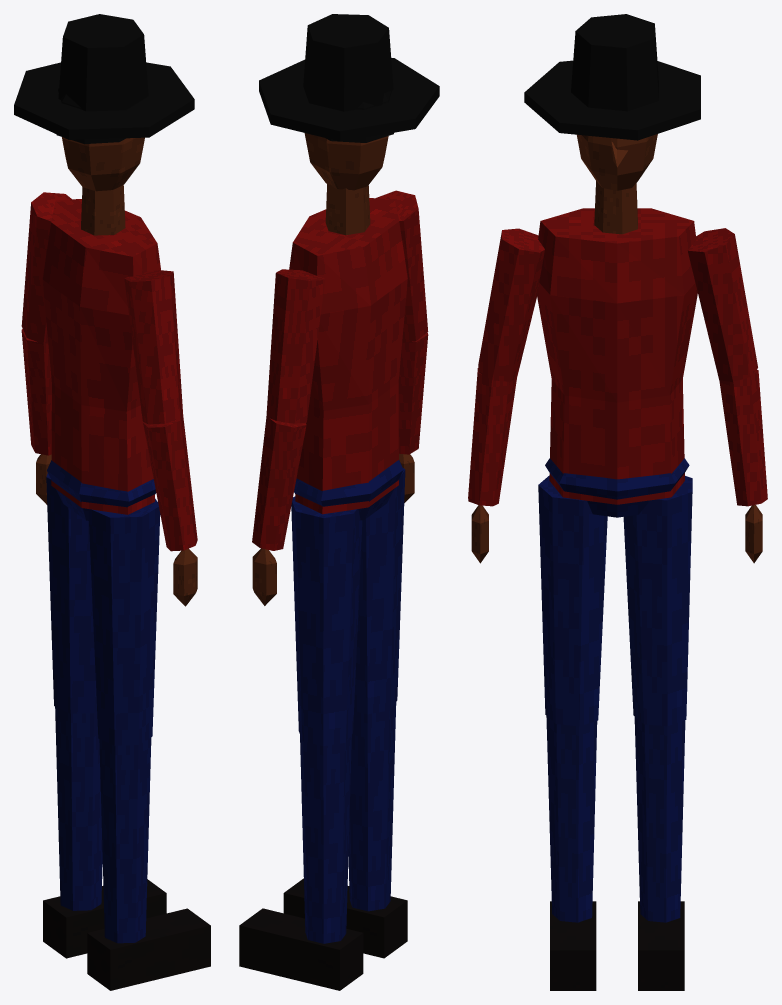
The model's file is artillero.glb.
3 views of the same model, side by side, from view 1: azimuth 30°, elevation 25°; view 2: azimuth 150°, elevation 25°; view 3: azimuth 270°, elevation 25° (orthographic).
Parts seen in each view (by area): view 1: torso, sombrero, muslo_der, pierna_der, muslo_izq, pierna_izq, brazo_der, pie_der, antebrazo_der, brazo_izq, pie_izq, cabeza (+5 smaller); view 2: torso, sombrero, muslo_izq, pierna_izq, muslo_der, pierna_der, brazo_izq, pie_izq, antebrazo_izq, pie_der, cabeza, brazo_der (+5 smaller); view 3: torso, sombrero, muslo_der, muslo_izq, pierna_izq, pierna_der, brazo_izq, brazo_der, antebrazo_izq, antebrazo_der, pie_izq, pie_der (+5 smaller).
Part boxes in pixels (box(x1,y1,x2,y2)): torso: box(42, 199, 160, 514); sombrero: box(14, 14, 194, 139); muslo_der: box(88, 498, 160, 745); pierna_der: box(99, 737, 151, 943); muslo_izq: box(46, 473, 96, 713); pierna_izq: box(55, 706, 102, 910); brazo_der: box(124, 270, 183, 424); pie_der: box(87, 908, 210, 990); antebrazo_der: box(143, 415, 197, 551); brazo_izq: box(21, 192, 71, 343); pie_izq: box(43, 879, 166, 958); cabeza: box(62, 137, 144, 191); torso: box(289, 198, 407, 514); sombrero: box(259, 14, 439, 141); muslo_izq: box(291, 496, 362, 746); pierna_izq: box(300, 735, 351, 943); muslo_der: box(354, 468, 405, 714); pierna_der: box(348, 702, 396, 911); brazo_izq: box(266, 269, 325, 423); pie_izq: box(239, 908, 363, 990); antebrazo_izq: box(252, 416, 306, 550); pie_der: box(283, 878, 407, 958); cabeza: box(304, 133, 388, 190); brazo_der: box(376, 190, 428, 342); torso: box(537, 208, 697, 504); sombrero: box(524, 14, 700, 140); muslo_der: box(538, 475, 607, 726); muslo_izq: box(623, 476, 692, 726); pierna_izq: box(634, 717, 685, 922); pierna_der: box(546, 716, 597, 922); brazo_izq: box(688, 228, 757, 382); brazo_der: box(478, 228, 544, 382); antebrazo_izq: box(719, 369, 767, 506); antebrazo_der: box(468, 368, 516, 506); pie_izq: box(638, 901, 684, 990); pie_der: box(550, 901, 596, 990).
Size of the model in its own units: 0.3 by 1.7 by 0.5.
Materials: 1 (1 with a texture image).
